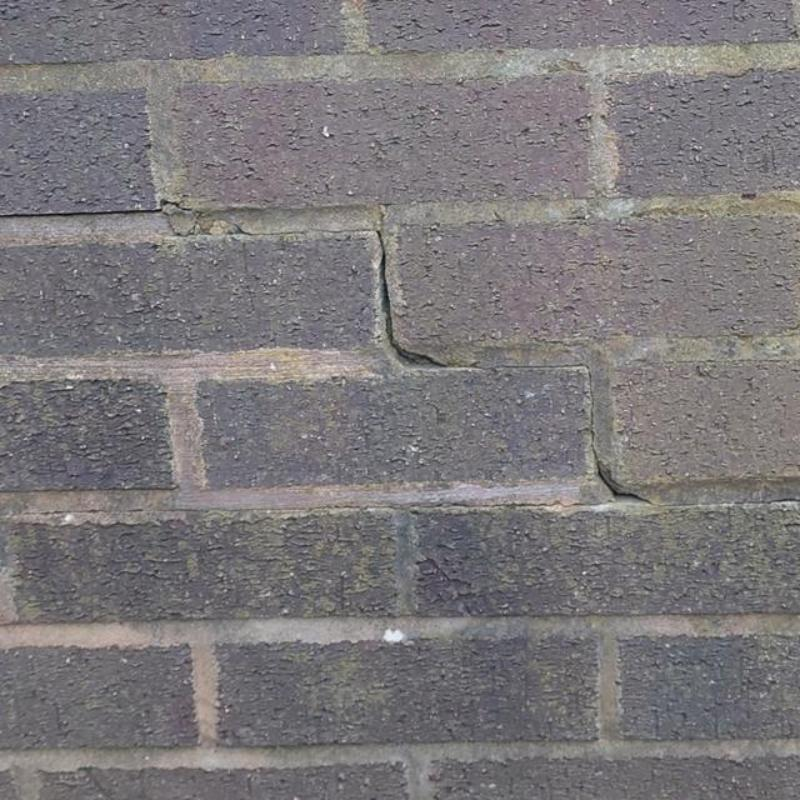pothole: (446, 364, 598, 456), (376, 231, 442, 368), (0, 200, 192, 219), (597, 457, 652, 502), (226, 222, 376, 236)
